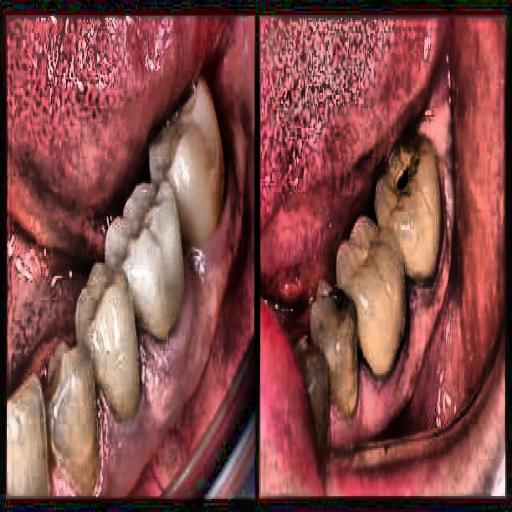Gingivitis: (148, 193, 248, 414), (360, 240, 458, 459)
